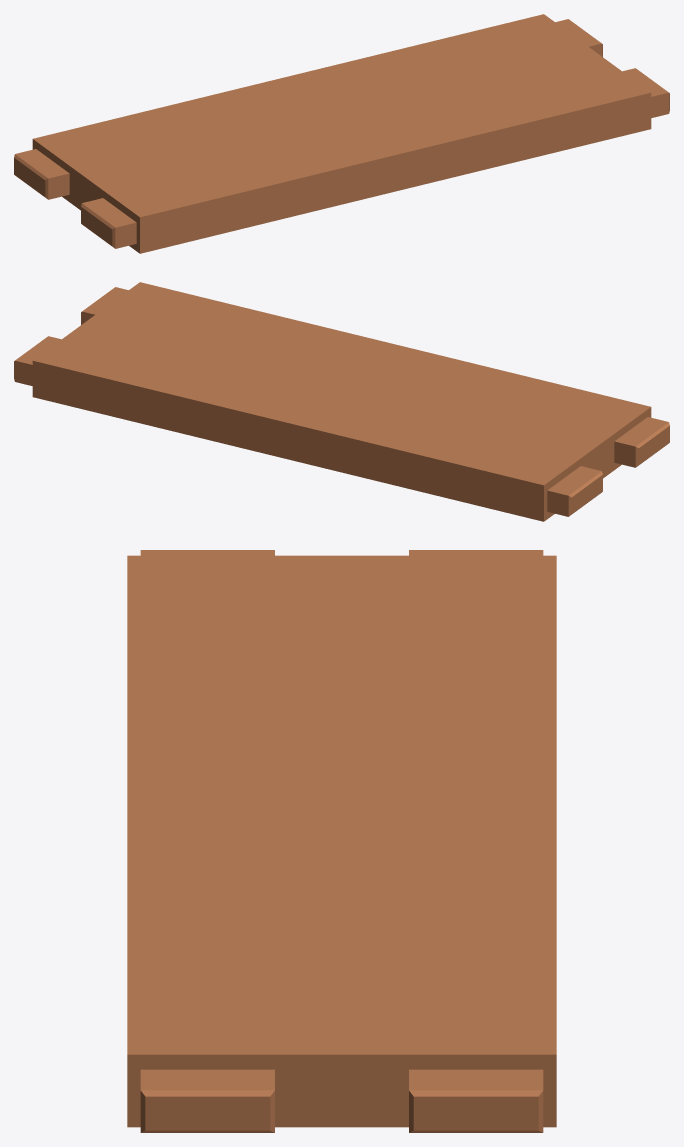
Rendered from shelf_level_3.diagnostic.glb.
The picture shows the model from 3 angles, top to bottom: view 1: azimuth 30°, elevation 25°; view 2: azimuth 150°, elevation 25°; view 3: azimuth 270°, elevation 25°; orthographic projection. The views are drawn at different scales.
Parts seen in each view (by area): view 1: shelf_level_3_mesh; view 2: shelf_level_3_mesh; view 3: shelf_level_3_mesh.
Boxes of the visible parts, left/top/right/bottom form: shelf_level_3_mesh: left=14, top=14, right=669, bottom=253; shelf_level_3_mesh: left=14, top=282, right=669, bottom=521; shelf_level_3_mesh: left=127, top=550, right=556, bottom=1132.
Bounding box in the file's own units: 96 × 6 × 32.
